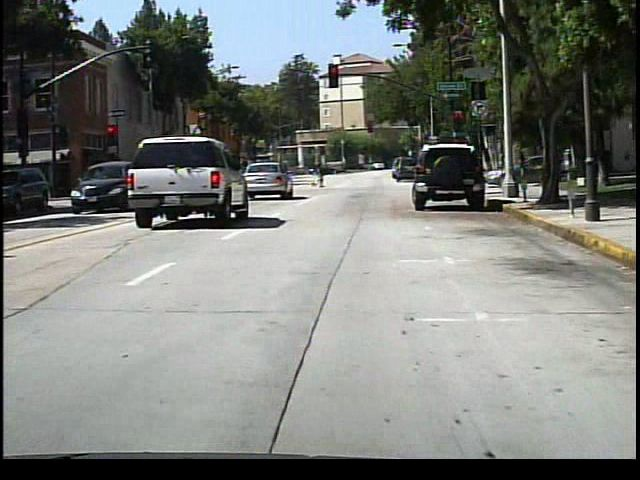person: (549, 140, 569, 187), (311, 157, 330, 191), (459, 152, 476, 184)
